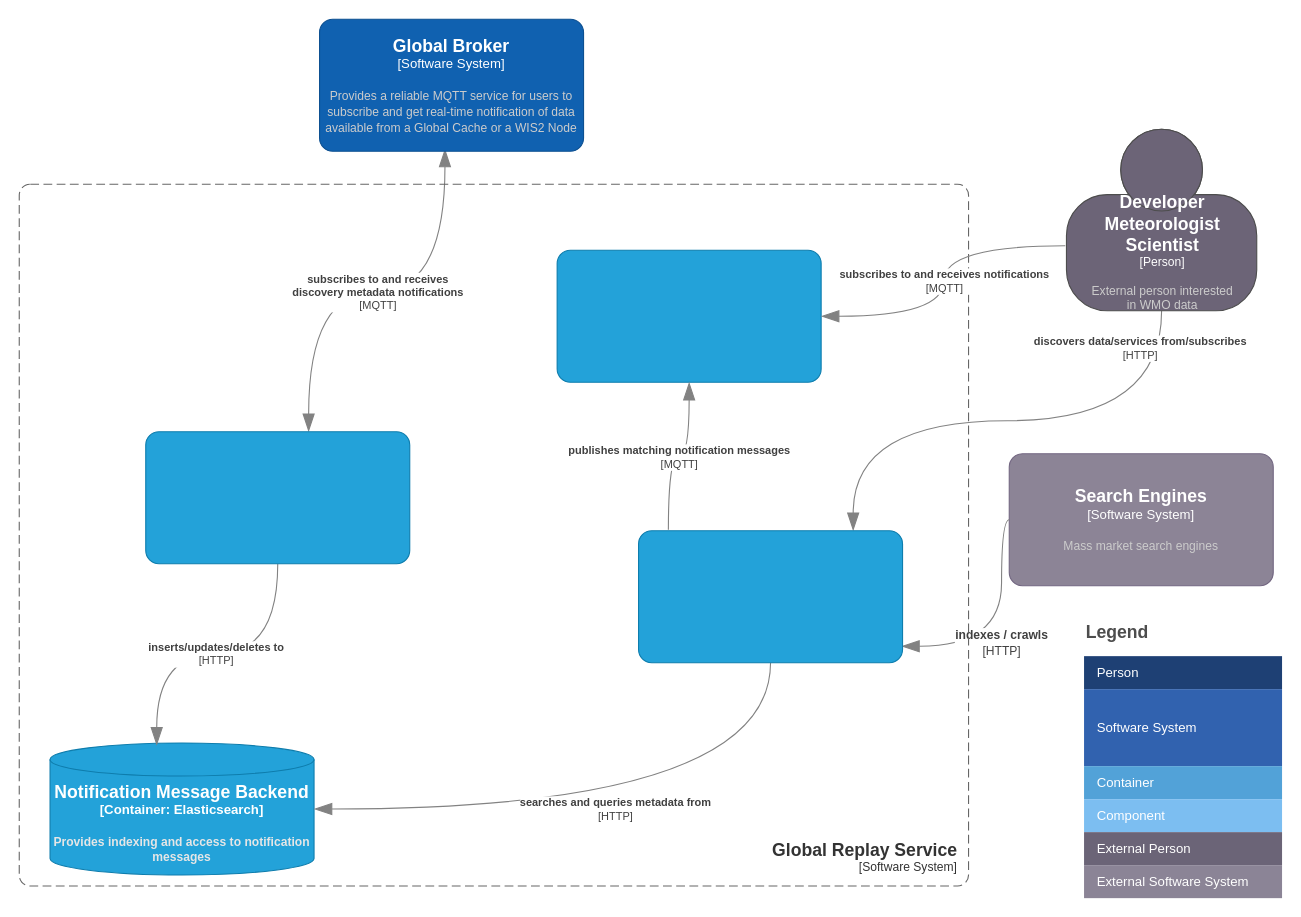
The diagram is 1301 pixels wide and 917 high, and some of its shapes have lost their labels. Each missing label, with the box of its shape:
GRep API [Container: pygeoapi] Provides notification message access service: (637, 530, 903, 663)
GRep Broker [Container: mosquitto] Description of container role/responsibility.: (556, 249, 821, 382)
GRep Management [Container: Python/pywis-pubsub] Ingests notification metadata: (145, 431, 410, 564)
